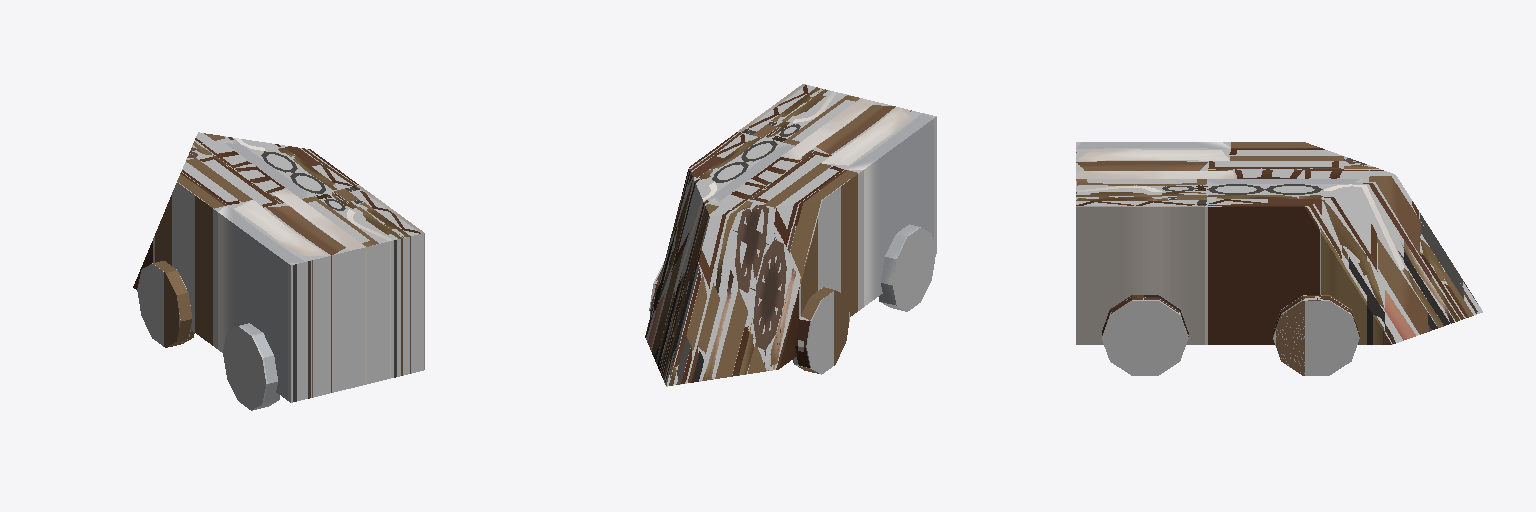
3 views of the same model, side by side, from view 1: azimuth 30°, elevation 25°; view 2: azimuth 150°, elevation 25°; view 3: azimuth 270°, elevation 25° (orthographic).
Parts seen in each view (by area): view 1: Caravan; view 2: Caravan; view 3: Caravan.
Boxes of the visible parts, x1,y1,x2,y2 form: Caravan: [133, 132, 424, 410]; Caravan: [645, 84, 936, 386]; Caravan: [1076, 142, 1482, 375].
Bounding box in the file's own units: 0.3846 × 0.3792 × 0.86.
1 materials, 1 textured.